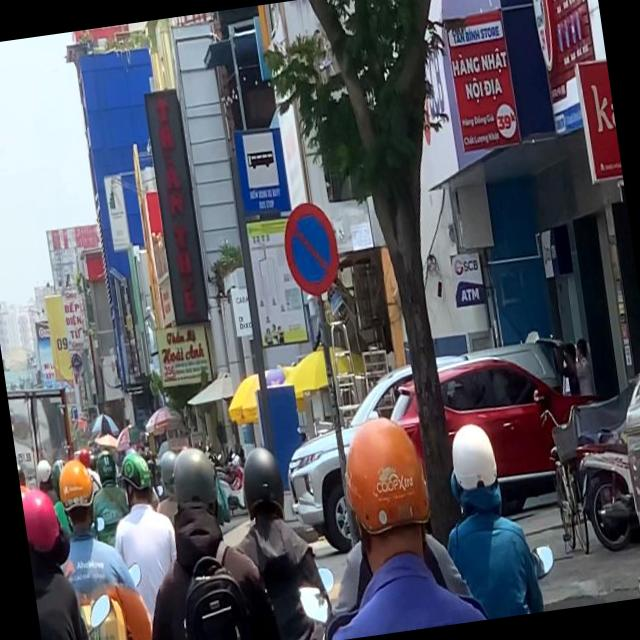P-131a: (278, 200, 344, 300)
